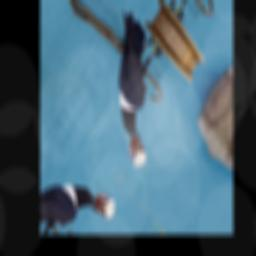Crow: (83, 2, 182, 149)
